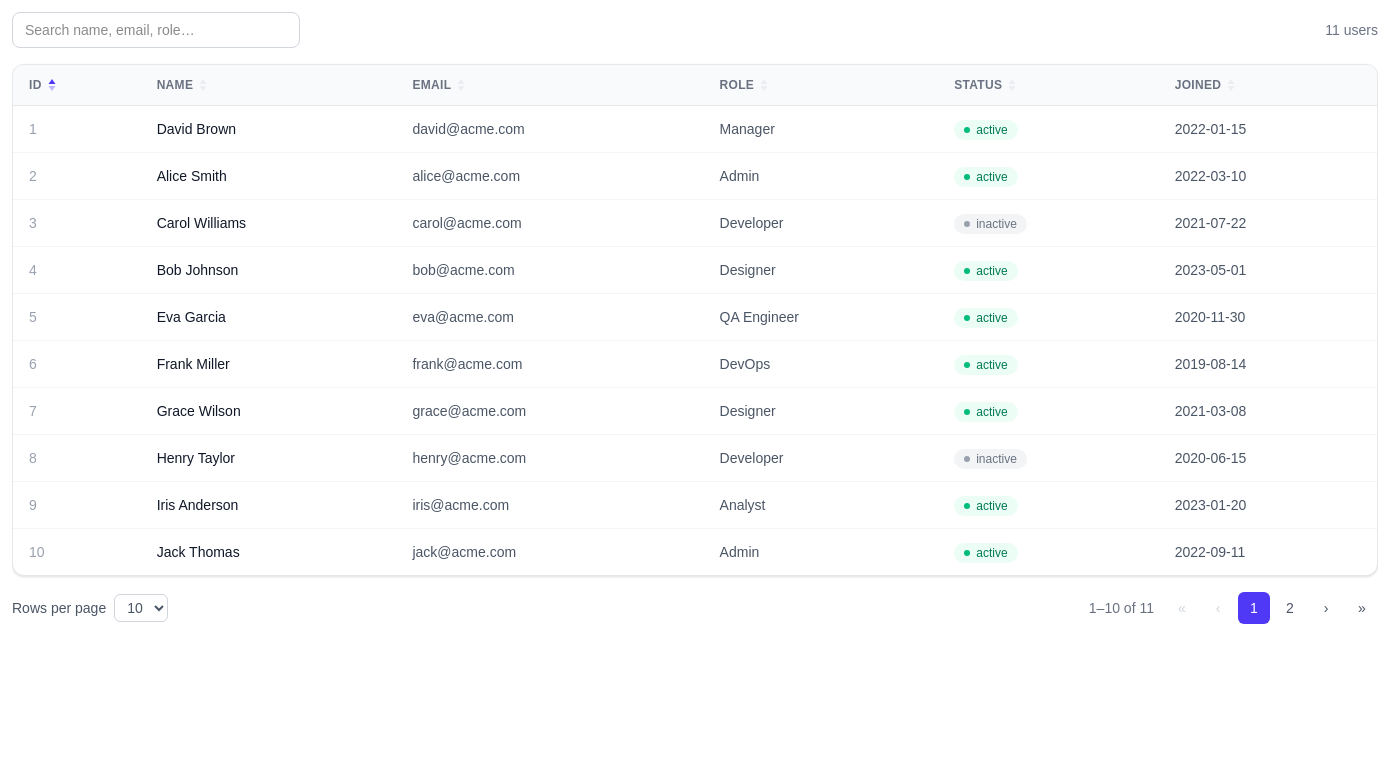
Test: DataTable — pagination › navigates to page 2 showing the remaining row
Click the button "›" at (1326, 608), box x1=1310 y1=592 x2=1342 y2=624
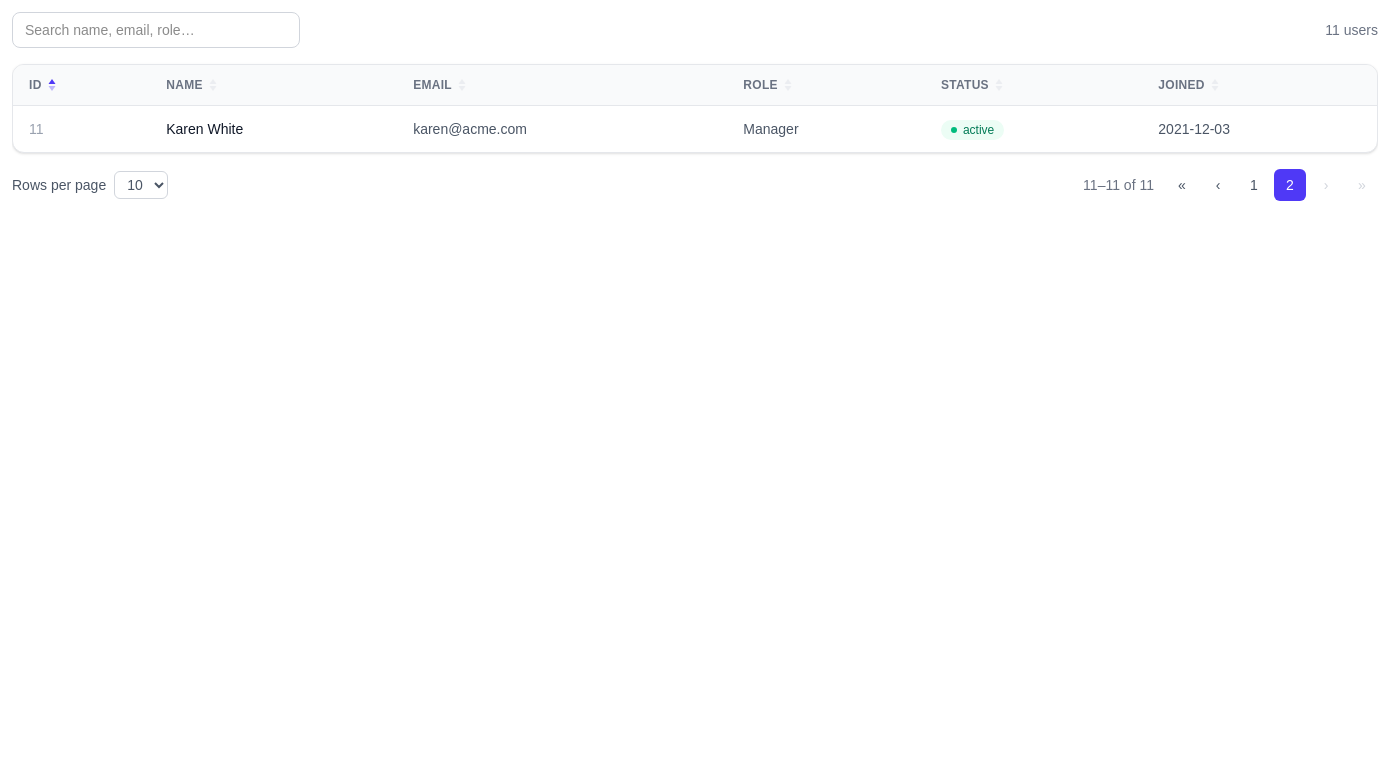
Result: the text "Karen White" is shown at x1=150 y1=106 x2=397 y2=152
Result: the text "David Brown" is gone
